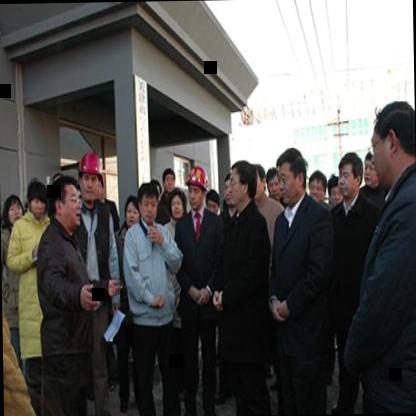head: (367, 96, 416, 192), (48, 172, 82, 232), (276, 146, 307, 208), (227, 158, 258, 212), (337, 150, 364, 204), (137, 177, 161, 227), (24, 177, 50, 222), (121, 196, 144, 238), (306, 168, 328, 209), (0, 194, 22, 234), (264, 163, 282, 206), (167, 188, 188, 224), (327, 171, 344, 214), (204, 188, 223, 224), (158, 164, 174, 197)
helmet: (78, 151, 104, 205), (187, 162, 208, 206)
